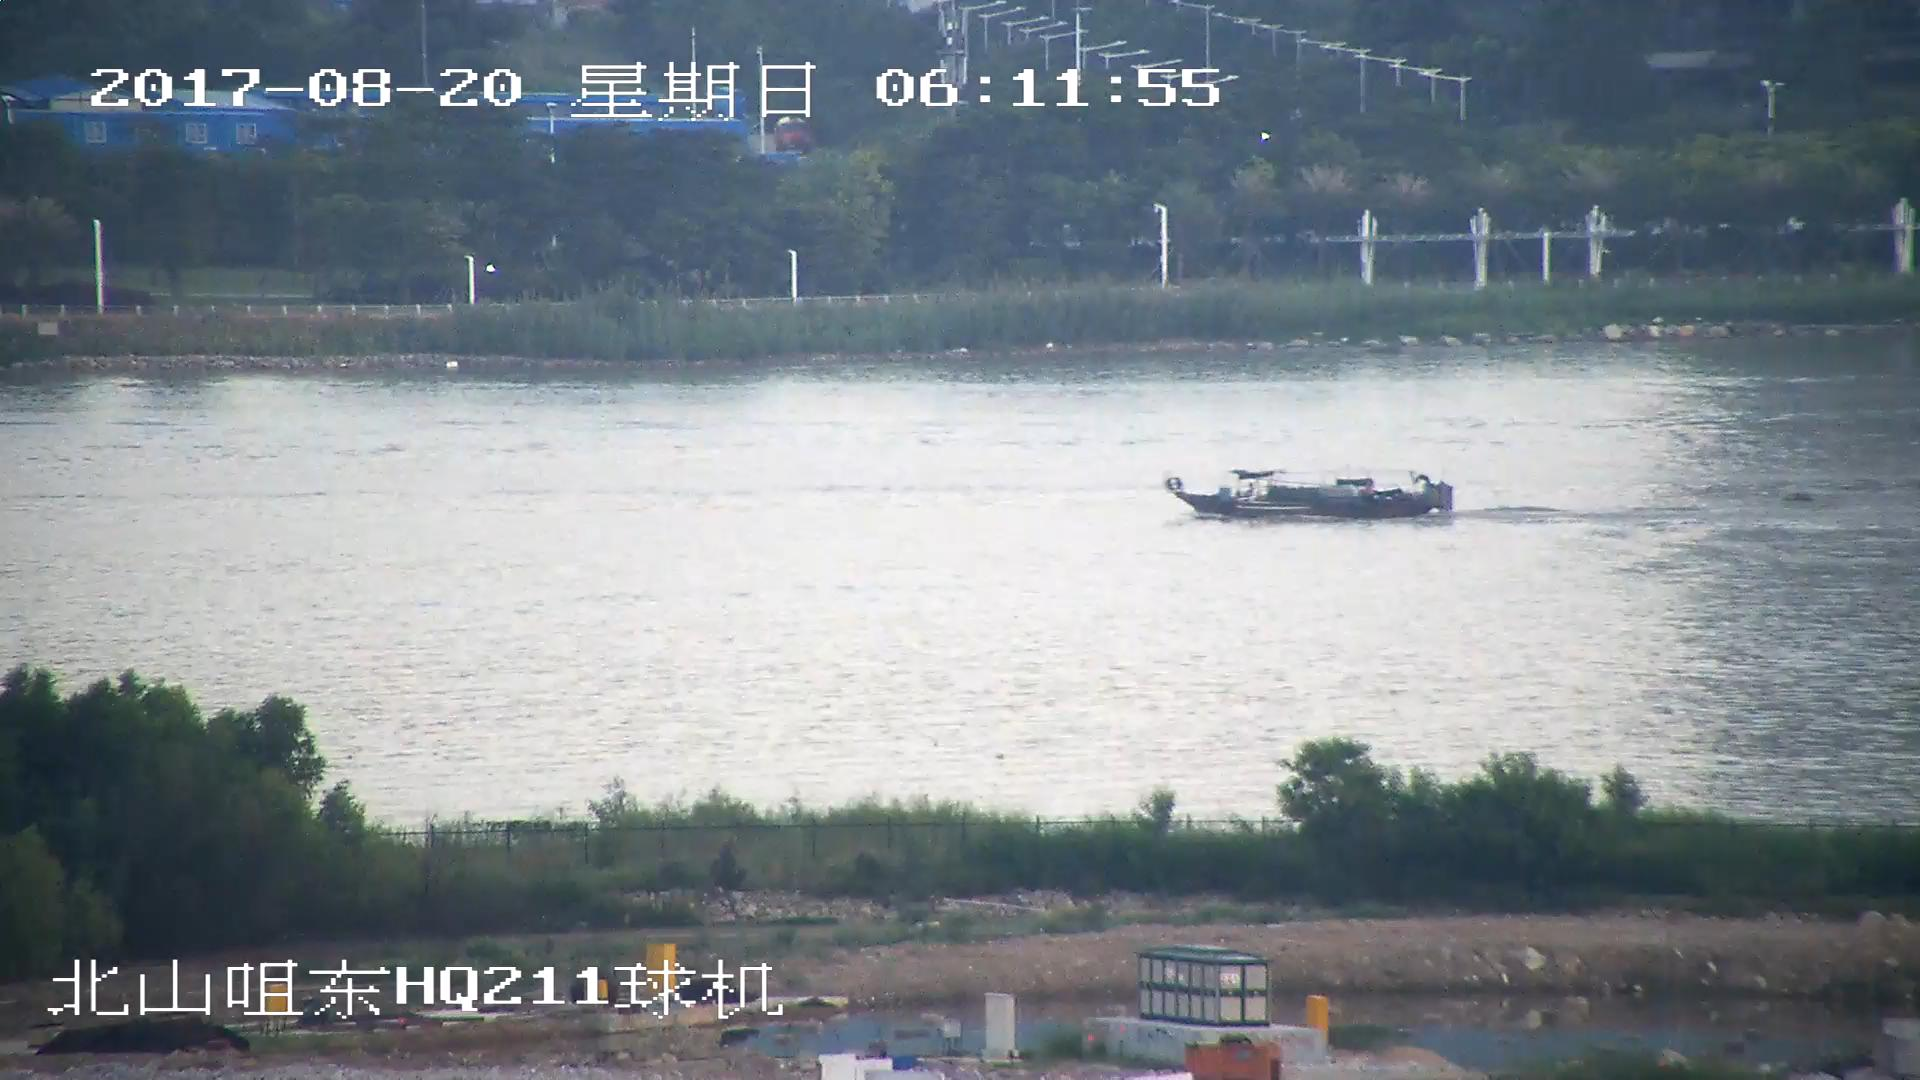fishing boat: (1164, 464, 1457, 517)
